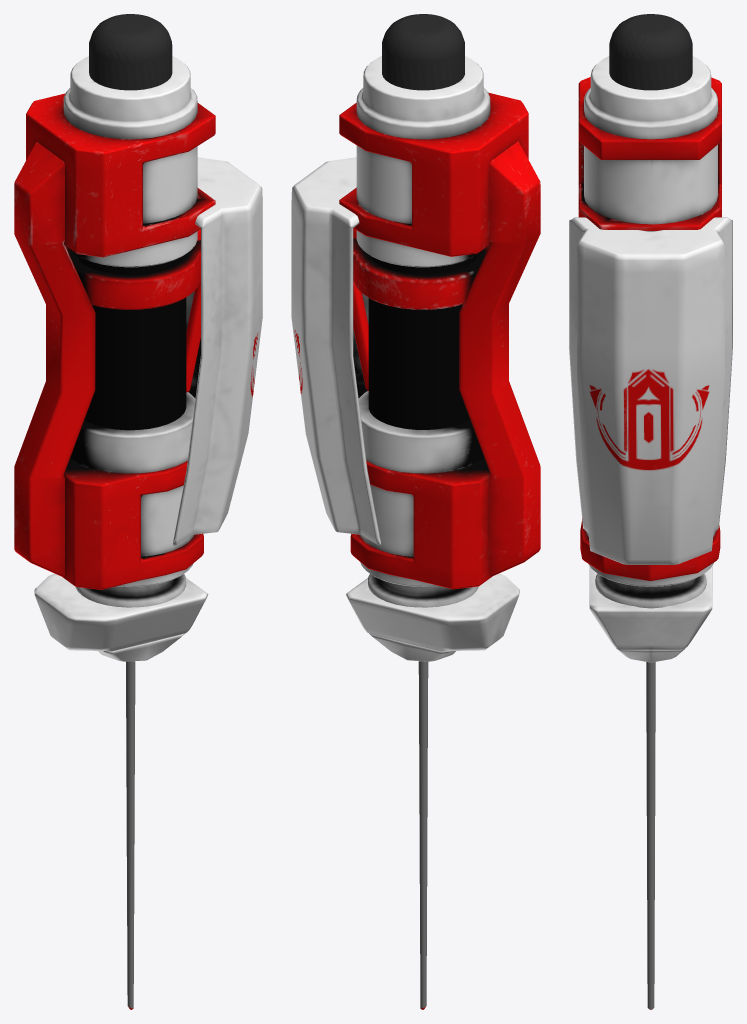
Rendered from SM_Powerup_SmallHealth.fbx.
The picture shows the model from 3 angles, left to right: view 1: azimuth 30°, elevation 25°; view 2: azimuth 150°, elevation 25°; view 3: azimuth 270°, elevation 25°; orthographic projection.
Parts seen in each view (by area): view 1: 15HPInjector; view 2: 15HPInjector; view 3: 15HPInjector.
Boxes of the visible parts, x1,y1,x2,y2 form: 15HPInjector: [14, 14, 262, 1009]; 15HPInjector: [291, 14, 540, 1009]; 15HPInjector: [569, 14, 732, 1009].
Size of the model in its own units: 5.28 by 3.32 by 22.06.
